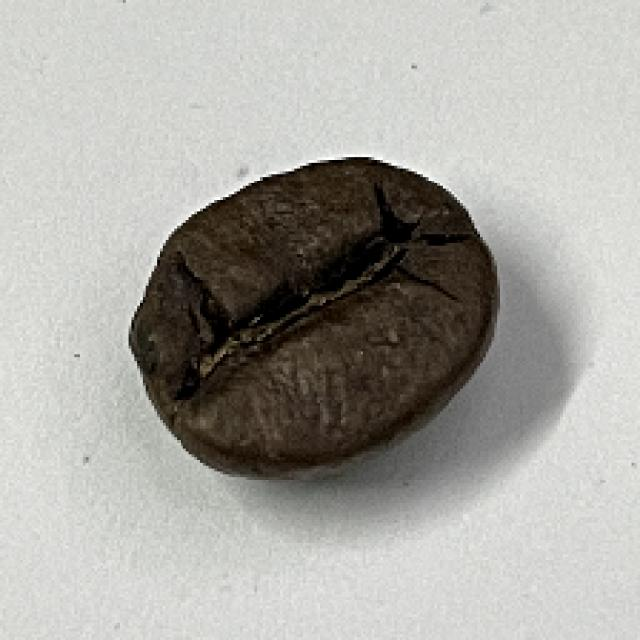bean: (124, 154, 500, 480)
